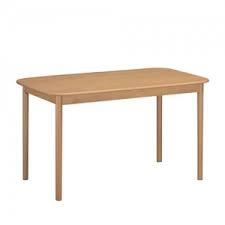desk: (17, 46, 212, 209)
